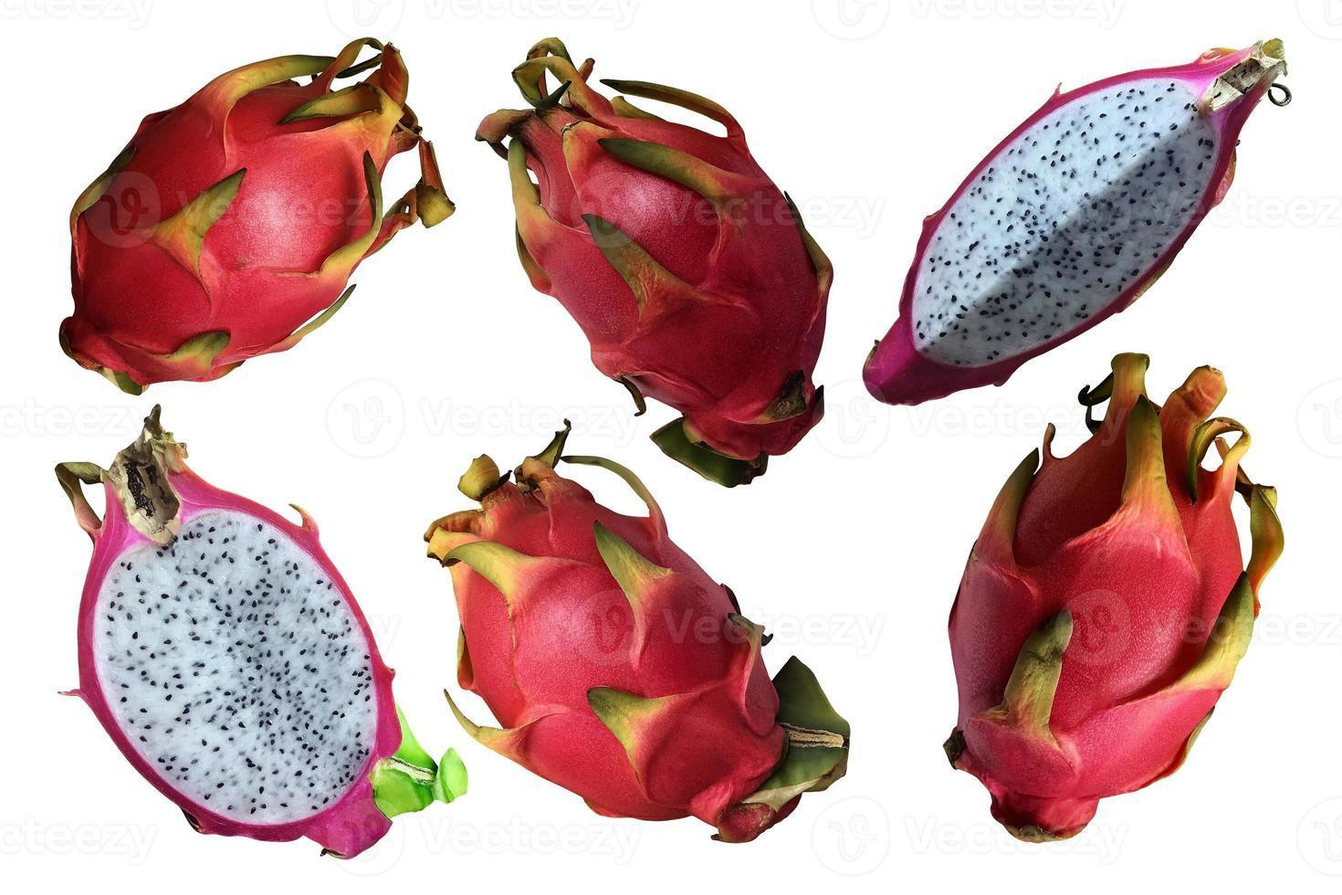dragon-fruit: (74, 486, 405, 844), (448, 495, 793, 825), (895, 63, 1241, 391), (945, 430, 1245, 803), (536, 113, 829, 463), (67, 83, 385, 389)
